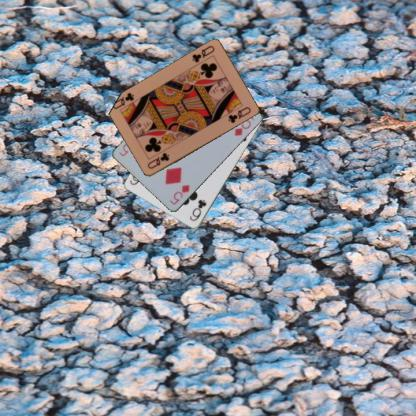5d: (167, 182, 191, 206)
6c: (187, 197, 208, 222)
Qc: (190, 43, 216, 64), (145, 150, 170, 171)
